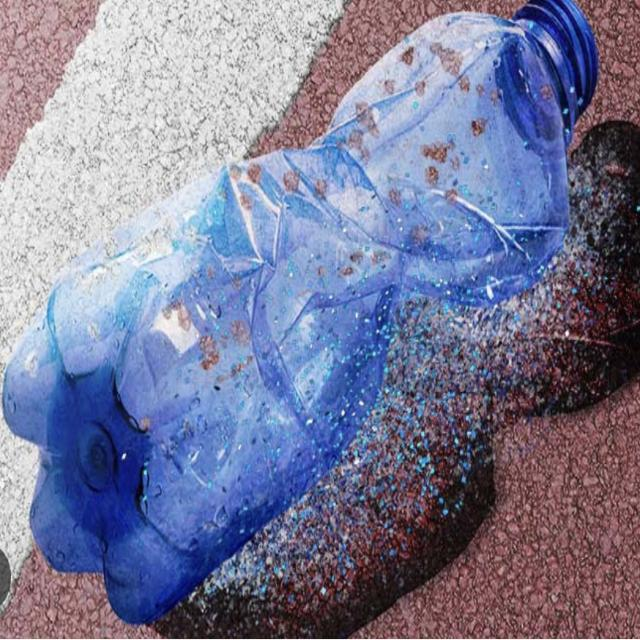recyclable: (0, 0, 629, 637)
